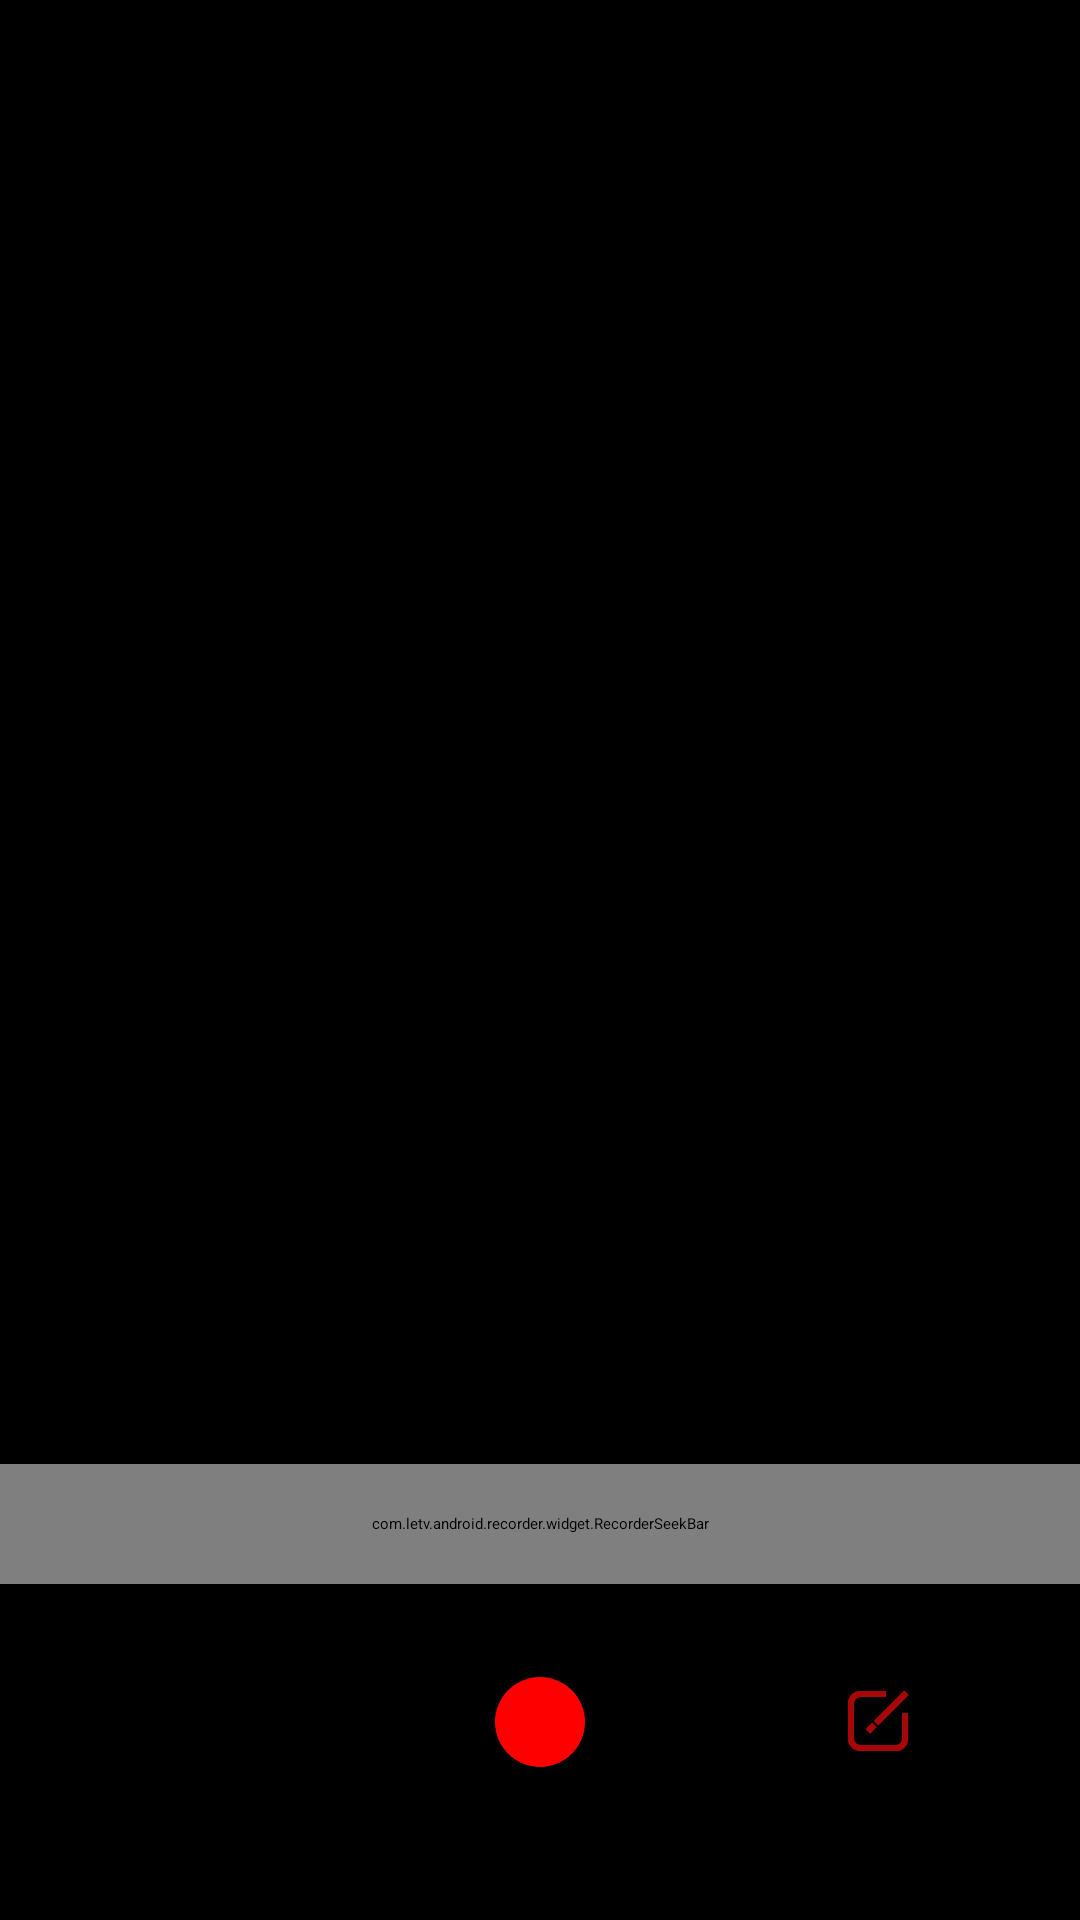

Point at icon controls on the screen. Image size 1080w x 1920h, points as (x=x, y=y).
play edit: (x=878, y=1720)
